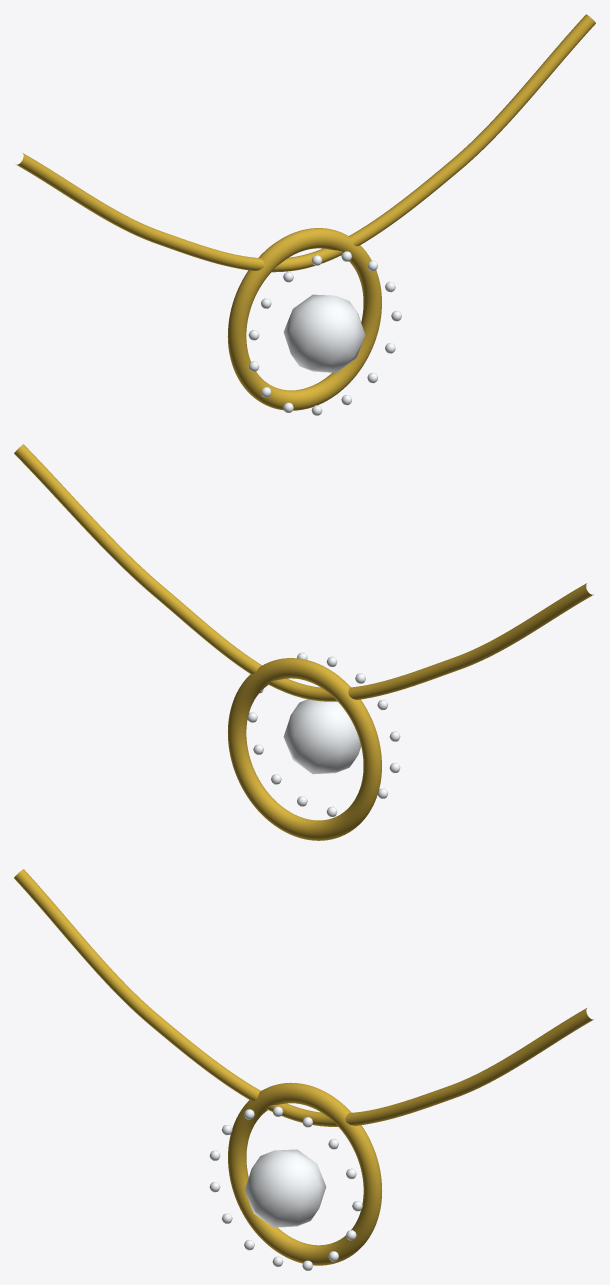
File: aurelia-sun-pendant.glb
3 renders of one model, top to bottom at view 1: azimuth 30°, elevation 25°; view 2: azimuth 150°, elevation 25°; view 3: azimuth 330°, elevation 25°, orthographic.
Parts seen in each view (by area): view 1: chain, pendant_frame, pendant_gem; view 2: pendant_frame, chain, pendant_gem; view 3: chain, pendant_frame, pendant_gem.
Boxes of the visible parts, x1=… form: chain: x1=15, y1=14, x2=595, y2=272; pendant_frame: x1=227, y1=228, x2=381, y2=410; pendant_gem: x1=283, y1=294, x2=365, y2=372; pendant_frame: x1=227, y1=658, x2=381, y2=840; chain: x1=14, y1=444, x2=593, y2=701; pendant_gem: x1=283, y1=699, x2=360, y2=774; chain: x1=14, y1=869, x2=593, y2=1126; pendant_frame: x1=228, y1=1082, x2=381, y2=1265; pendant_gem: x1=244, y1=1149, x2=326, y2=1227.
Bounding box in the file's own units: 2.73 × 1.46 × 0.366.
